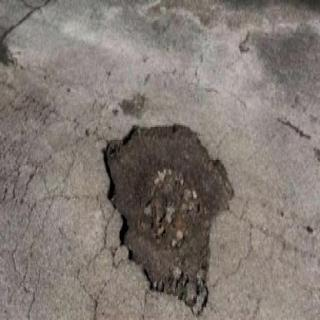pothole: (98, 125, 234, 315)
